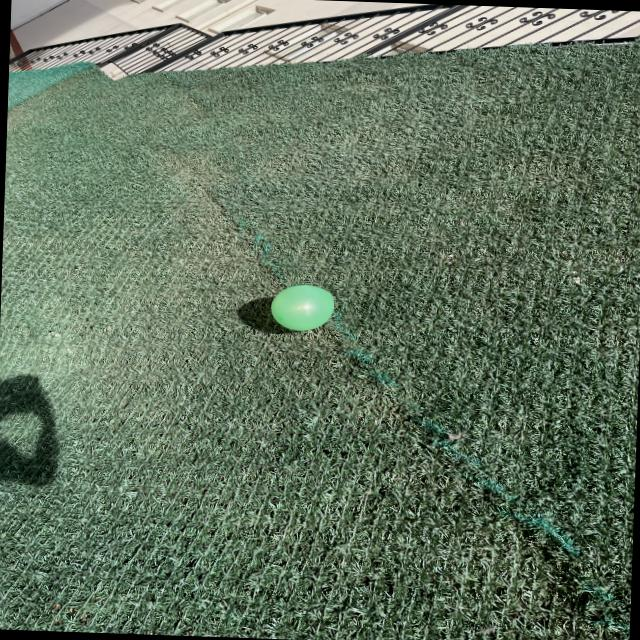balloon: (271, 285, 334, 330)
